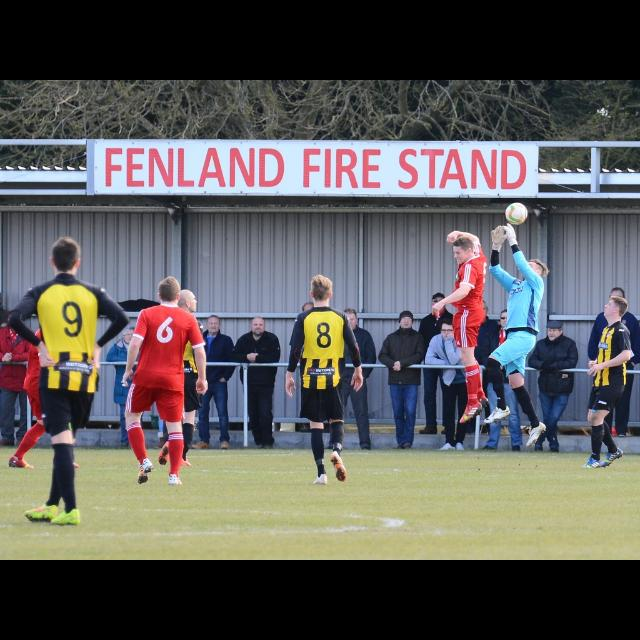Football: (506, 202, 526, 224)
